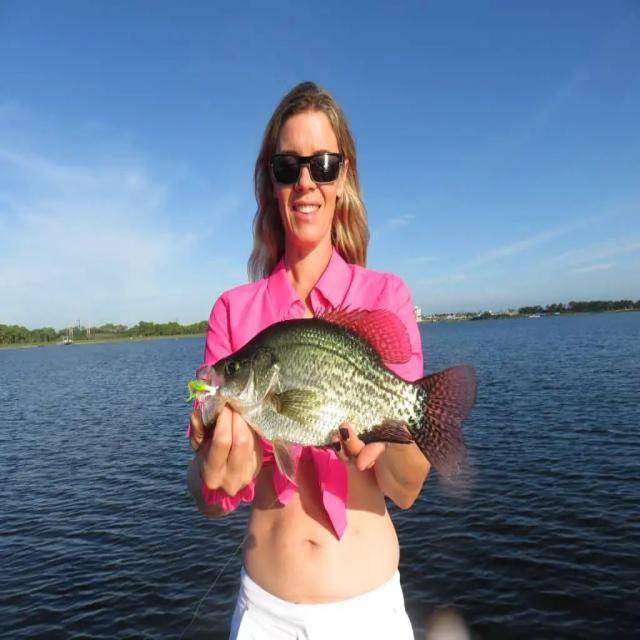Crappie - Black: (190, 310, 476, 482)
